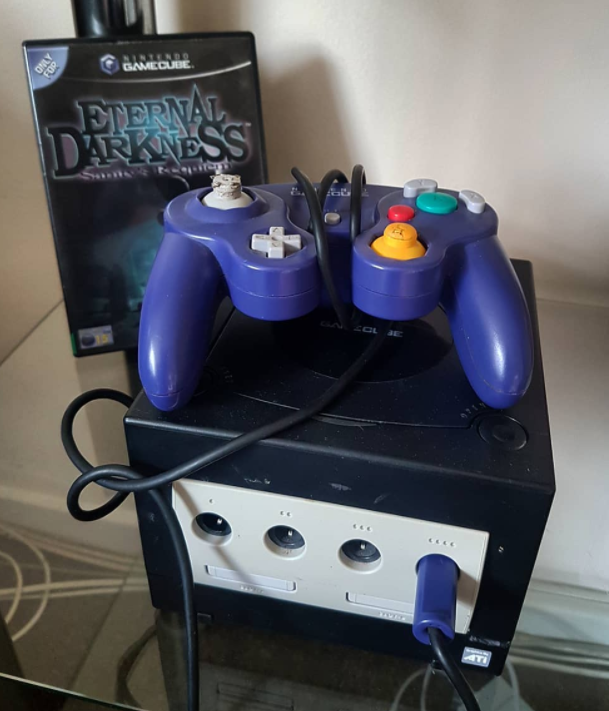gamingconsole: (140, 176, 533, 411)
